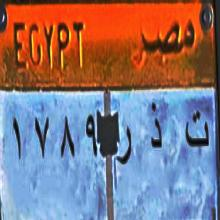1: (12, 109, 24, 164)
7: (34, 113, 50, 164)
8: (58, 112, 76, 167)
9: (82, 109, 98, 163)
raa: (117, 123, 136, 172)
taa: (182, 108, 212, 156)
zaal: (146, 98, 165, 165)
